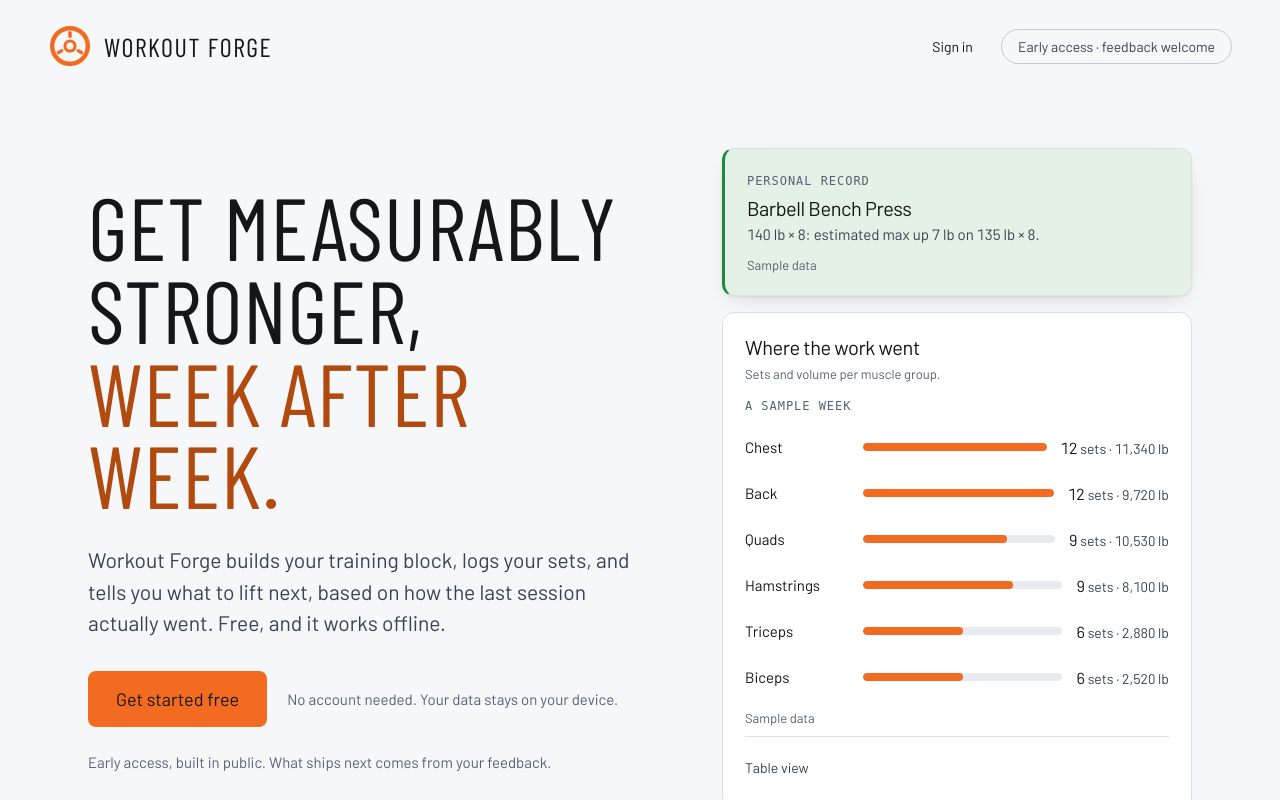
Test: setup: the goal card › continues without a goal, and the block has none
Click the button "Get started free" at (178, 699), box [88, 671, 267, 727]
(page scrolled)
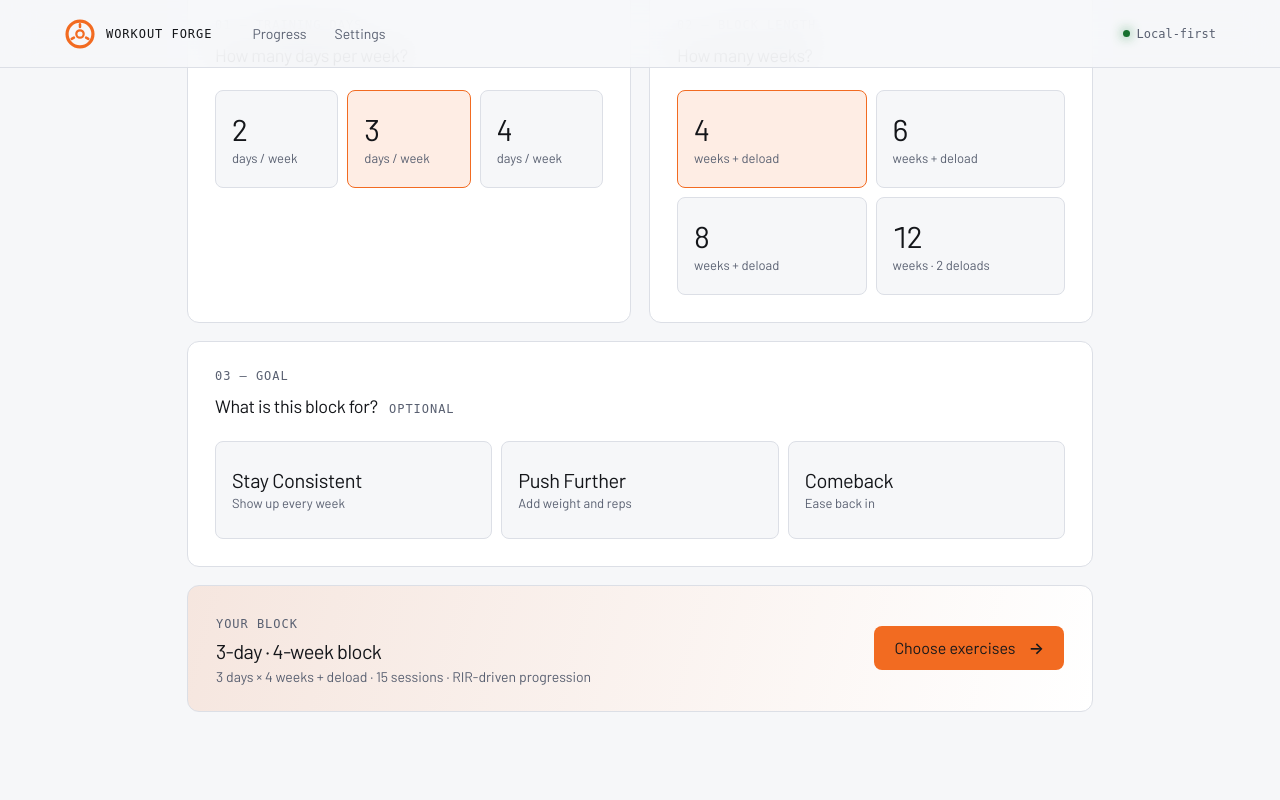
Click the button "Choose exercises →" at (969, 648), box [874, 626, 1064, 670]
(page scrolled)
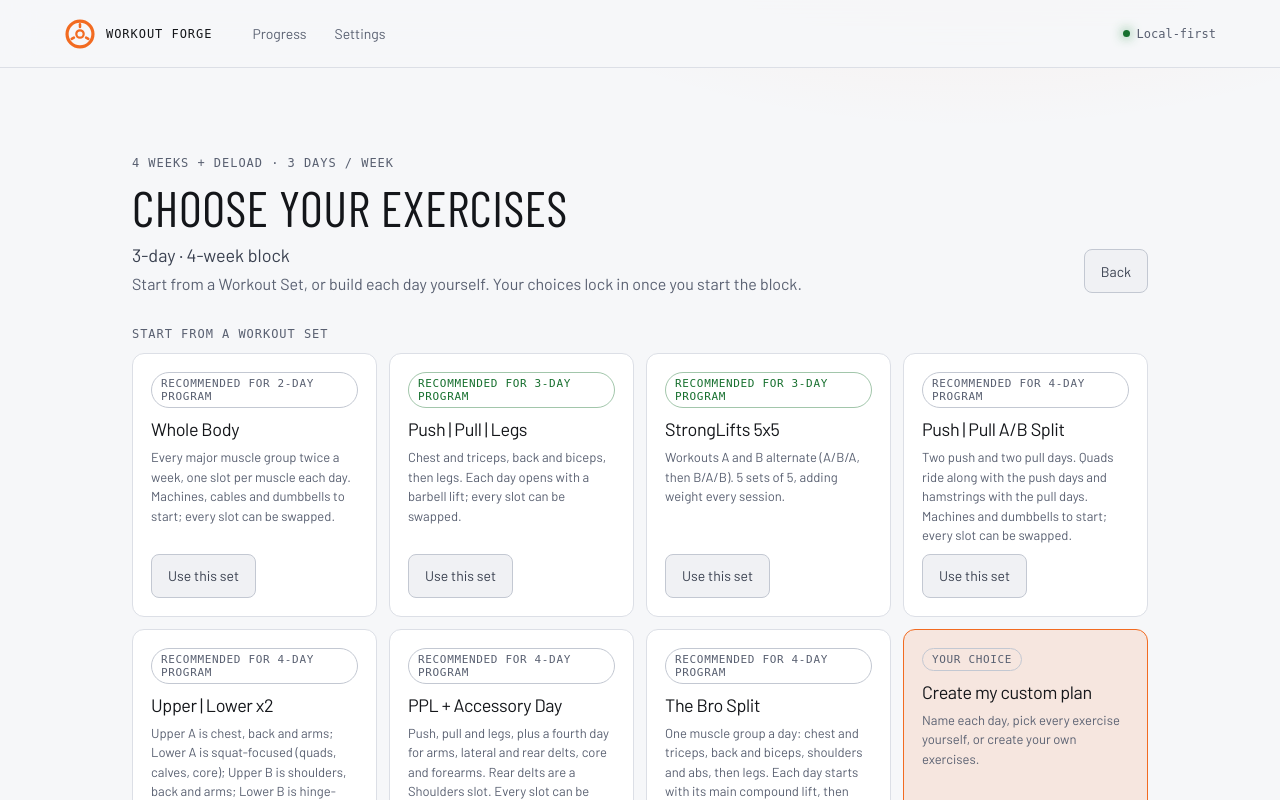
Result: the text with class "block-name" reads "3-day · 4-week block" at [132, 244, 290, 266]
Result: the heading "Choose your exercises" is shown at [132, 177, 568, 237]
